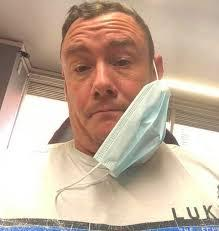Wore Mask Incorrectly: (52, 0, 169, 173)
